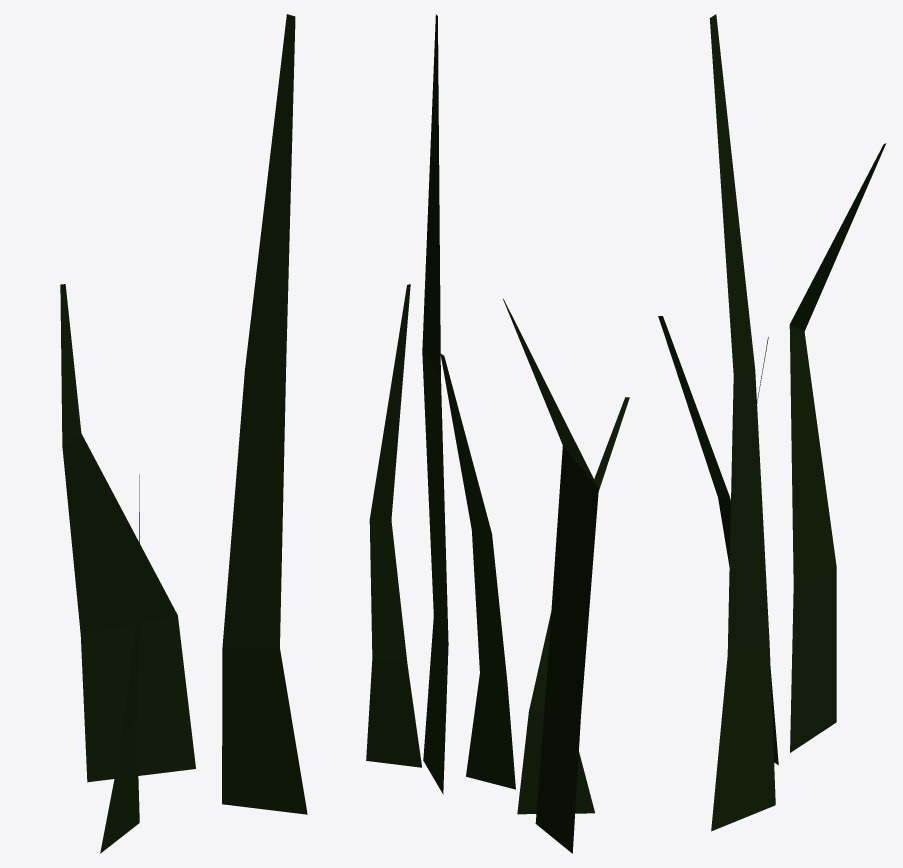
Rendered from HIERBAJO_3.fbx.
3 renders of one model, left to right at view 1: azimuth 30°, elevation 25°; view 2: azimuth 150°, elevation 25°; view 3: azimuth 270°, elevation 25°, orthographic. The views are drawn at different scales.
Parts seen in each view (by area): view 1: HIERBAJOS_3; view 2: HIERBAJOS_3; view 3: HIERBAJOS_3.
Boxes of the visible parts, x1,y1,x2,y2 form: HIERBAJOS_3: (60, 14, 307, 853); HIERBAJOS_3: (366, 14, 629, 853); HIERBAJOS_3: (658, 14, 886, 831).
Size of the model in its own units: 21.4 by 58.68 by 15.17.
